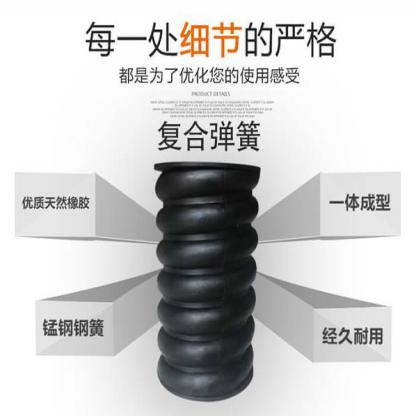FOD: (152, 157, 263, 404)
